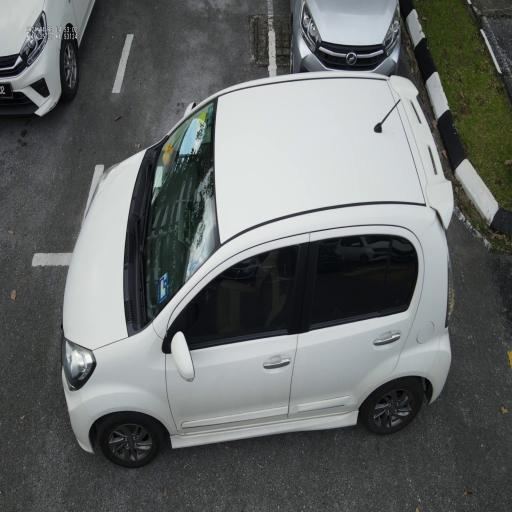Illegal: (60, 71, 453, 471)
Occupied: (266, 0, 426, 105)
